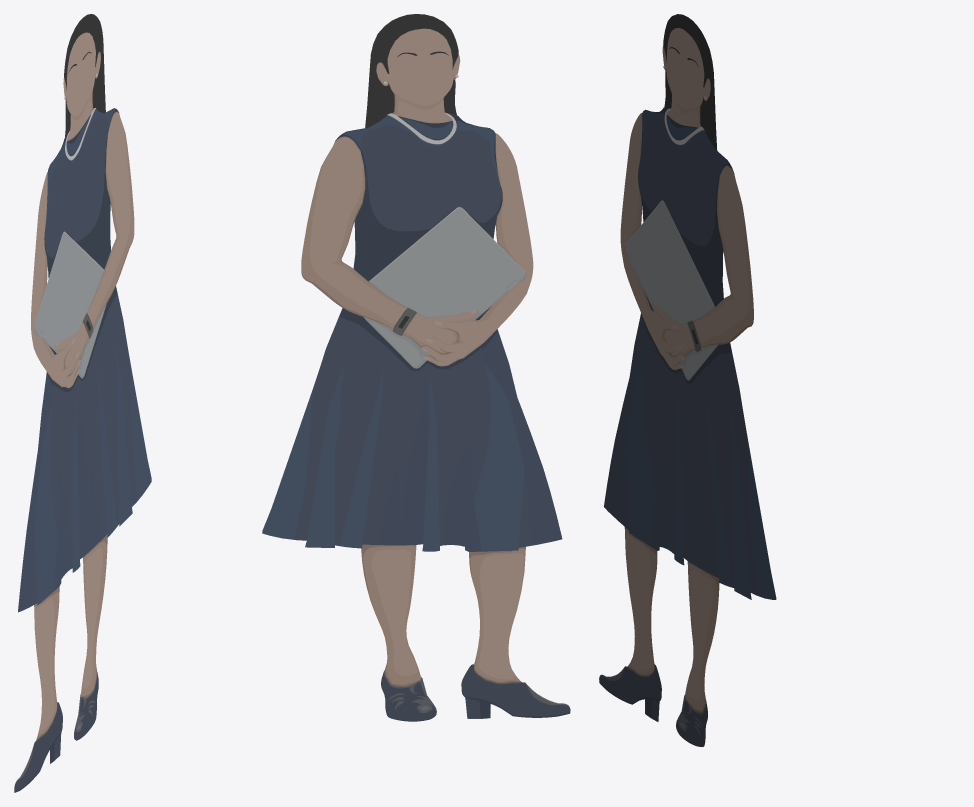
The model's file is opora55_1778831374184.glb.
The picture shows the model from 3 angles, left to right: view 1: azimuth 30°, elevation 25°; view 2: azimuth 150°, elevation 25°; view 3: azimuth 270°, elevation 25°; orthographic projection. The views are drawn at different scales.
Visible parts, largest first — view 1: Geom3D (×13); view 2: Geom3D (×12); view 3: Geom3D (×10).
Boxes of the visible parts, x1,y1,x2,y2 form: Geom3D (×13): (14,14,151,792); Geom3D (×12): (262,14,570,720); Geom3D (×10): (599,14,776,746).
Bounding box in the file's own units: 0.5228 × 1.59 × 0.7186.
